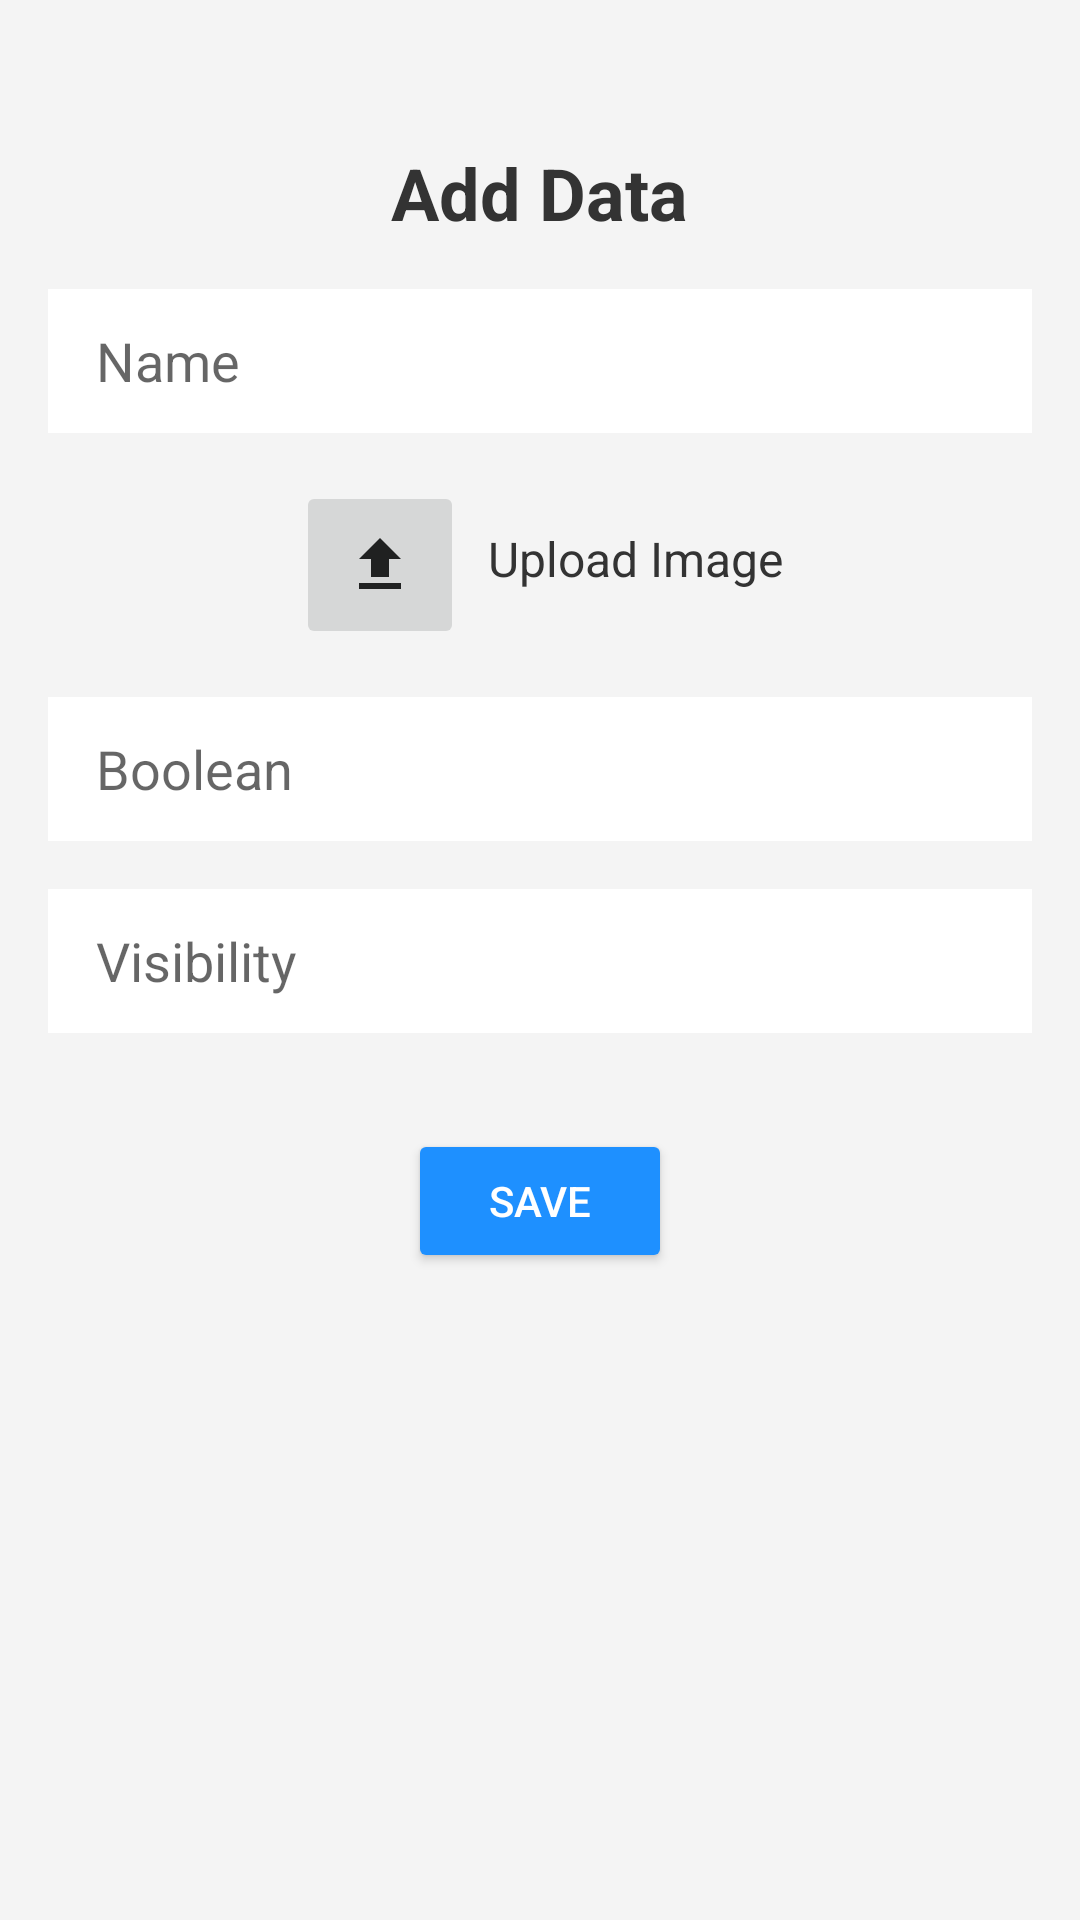

Where to tap for icons on this 1080px x 1920px app screen, as point (x, y):
Select Image: point (380, 565)
